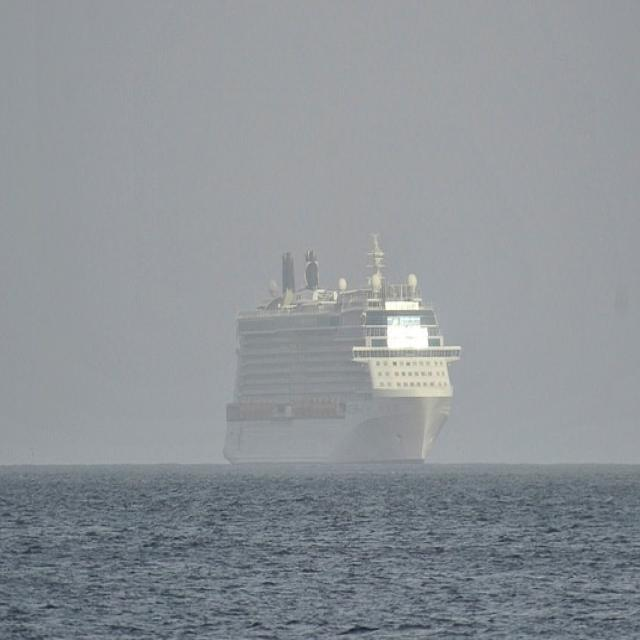passenger ship: (218, 226, 460, 470)
